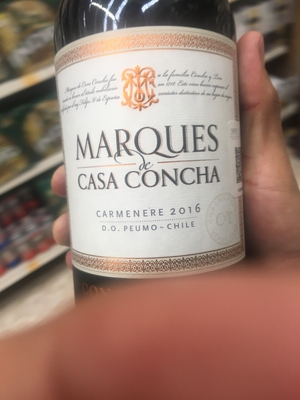marques de casa concha carmenere: (49, 4, 245, 285)
